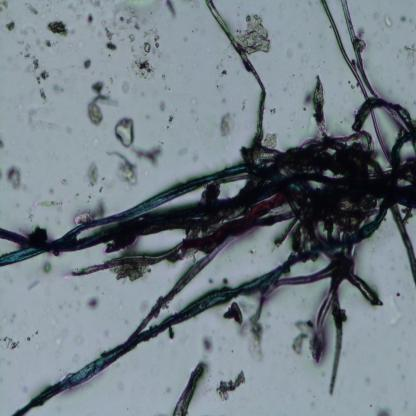Background material: (270, 120, 390, 391), (130, 27, 165, 88), (19, 48, 51, 99), (237, 14, 274, 58), (249, 289, 271, 362), (113, 0, 156, 37), (87, 79, 113, 126), (108, 148, 138, 186), (71, 196, 106, 225), (215, 372, 249, 400), (223, 300, 248, 328), (114, 117, 136, 148), (212, 111, 235, 139), (133, 142, 163, 163), (5, 164, 22, 192), (403, 40, 416, 70), (102, 28, 118, 52), (0, 334, 20, 352), (45, 22, 67, 38), (87, 164, 101, 188), (202, 334, 218, 354), (85, 294, 100, 312), (164, 1, 177, 20), (0, 0, 10, 14), (6, 18, 16, 32), (82, 57, 92, 70), (158, 101, 168, 113)
Cellulose filter fibre: (16, 255, 294, 415), (0, 161, 253, 267), (321, 1, 416, 274), (206, 1, 265, 153), (68, 229, 203, 285), (132, 250, 220, 331), (174, 361, 206, 415)
Cotton: (179, 192, 282, 259)
